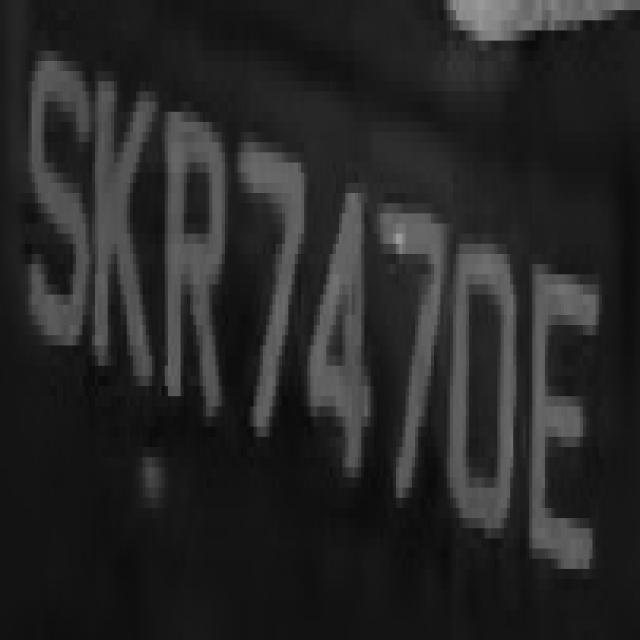0: (447, 183, 523, 579)
4: (307, 122, 377, 528)
7: (377, 132, 447, 559), (241, 71, 307, 498)
E: (526, 172, 605, 640)
K: (86, 10, 155, 427)
R: (156, 61, 232, 457)
S: (19, 0, 86, 396)
